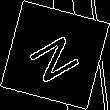N_NE: (23, 25, 87, 85)
